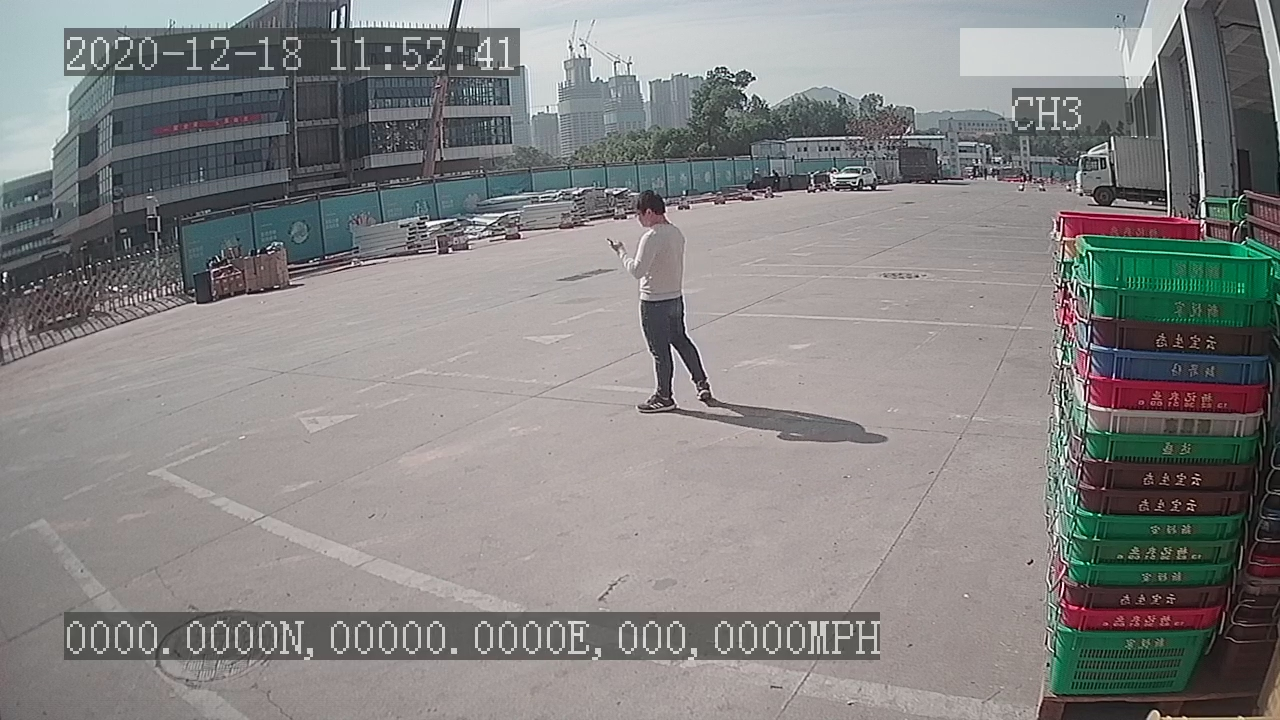person: (602, 185, 720, 419)
